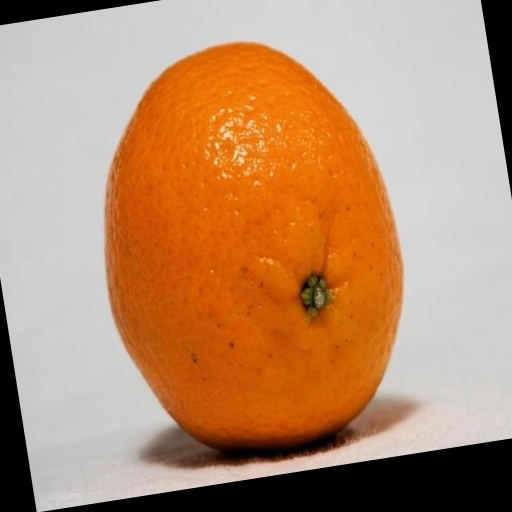fruit: (105, 43, 402, 449)
